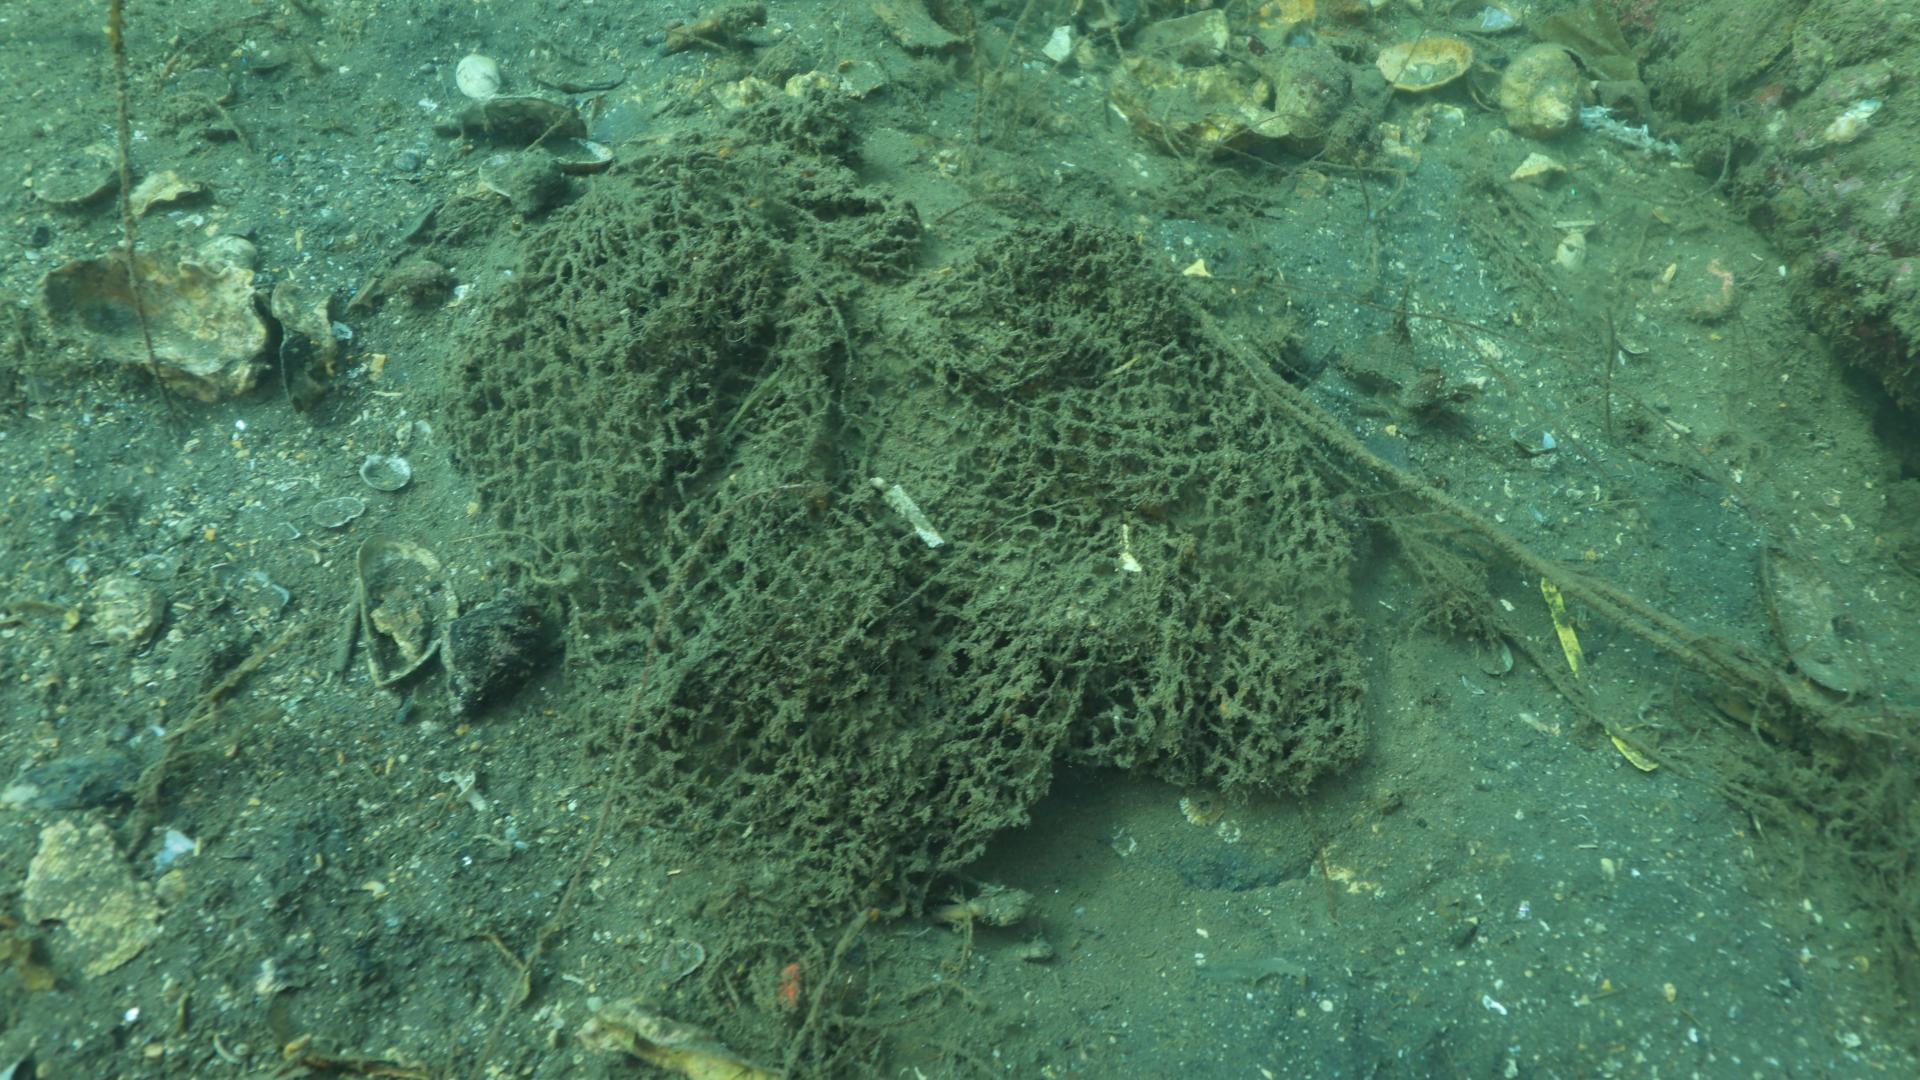bundle of ropes: (1196, 306, 1801, 709)
fish net: (446, 127, 1370, 880)
